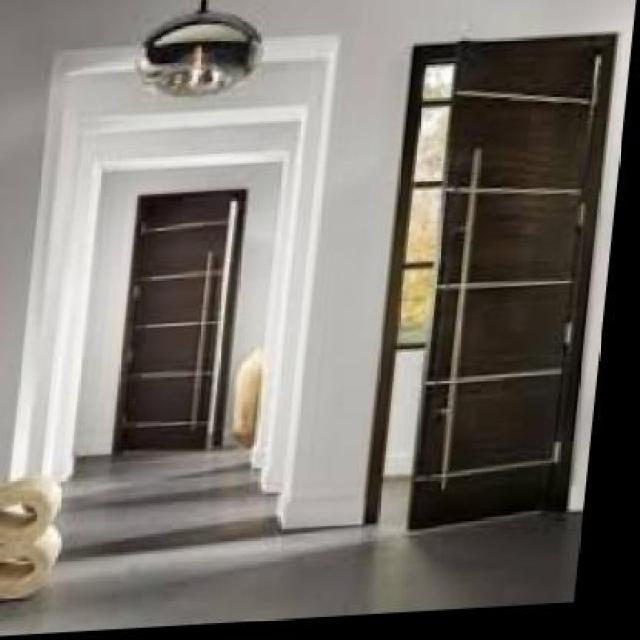door: (367, 16, 611, 543), (112, 180, 244, 464)
